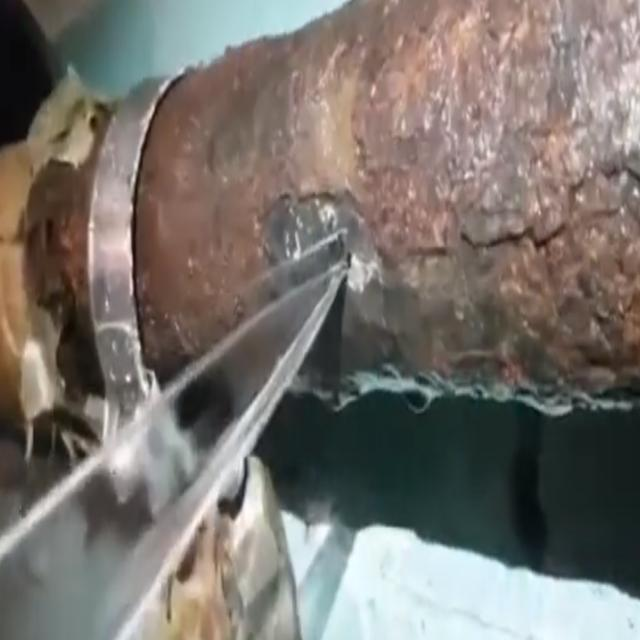leak: (0, 259, 346, 636)
